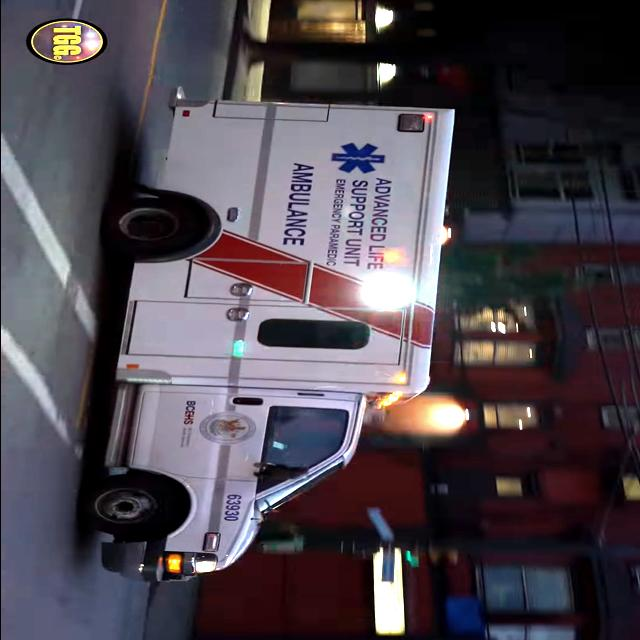emergency-vehicles: (53, 90, 464, 584)
